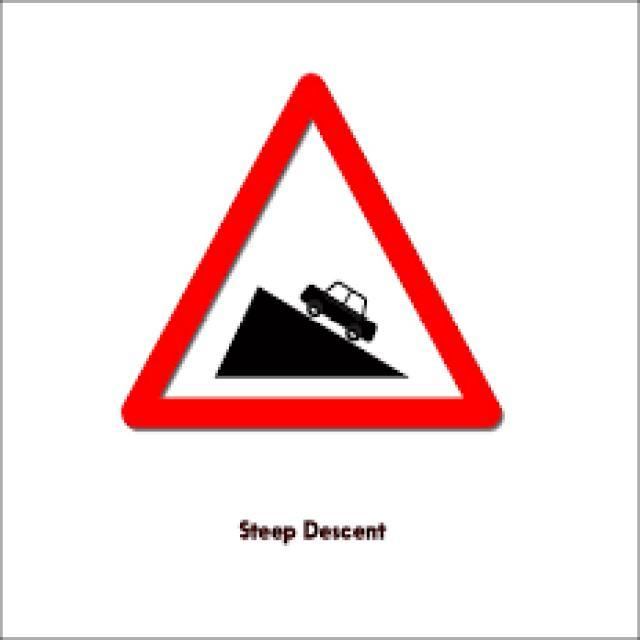steep descent: (116, 67, 514, 439)
